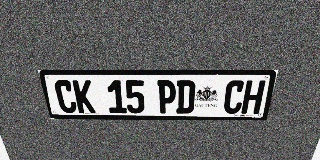1: (106, 80, 127, 113)
5: (125, 80, 145, 113)
C: (53, 80, 78, 113), (222, 80, 246, 114)
D: (176, 80, 196, 114)
H: (241, 80, 266, 114)
K: (72, 80, 96, 113)
P: (157, 80, 176, 113)
